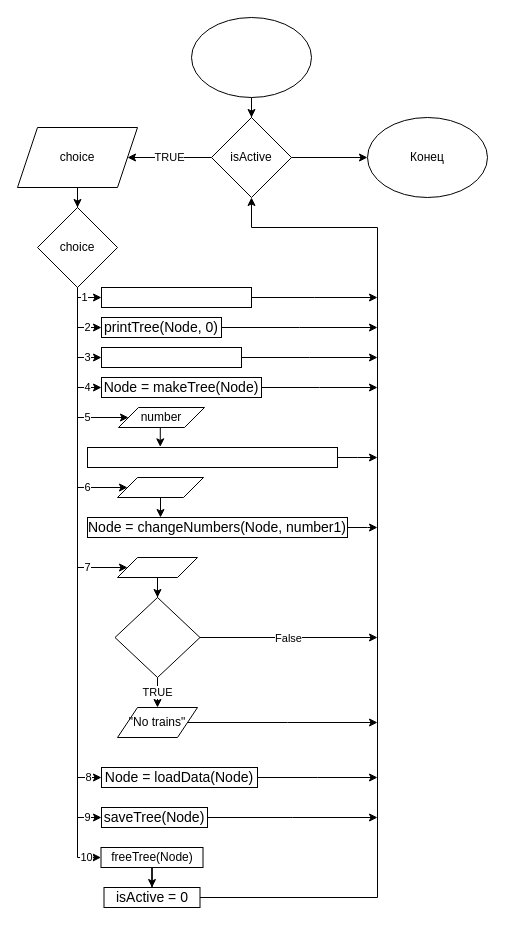
Image size: 505x925. Some labels were removed from this diagram. Each missing label, with the centre of its shape:
"!printTrainsByLetter(Node, letter)" goes at point 157,637.
"letter" goes at point 157,567.
"Node = addTrain(Node)" goes at point 176,297.
"Node = deleteNode(Node, number)" goes at point 212,457.
"number1" goes at point 160,487.
"printAllTrains(Node)" goes at point 171,357.
"Начало main" goes at point 251,57.
